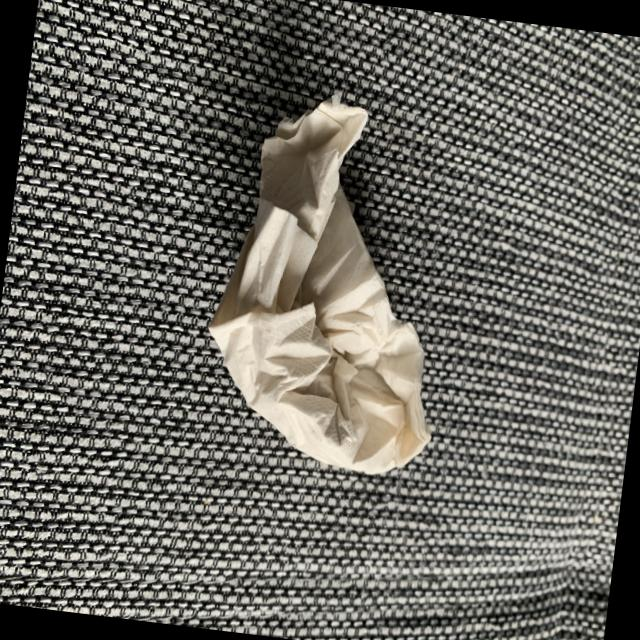organic waste: (188, 77, 471, 499)
